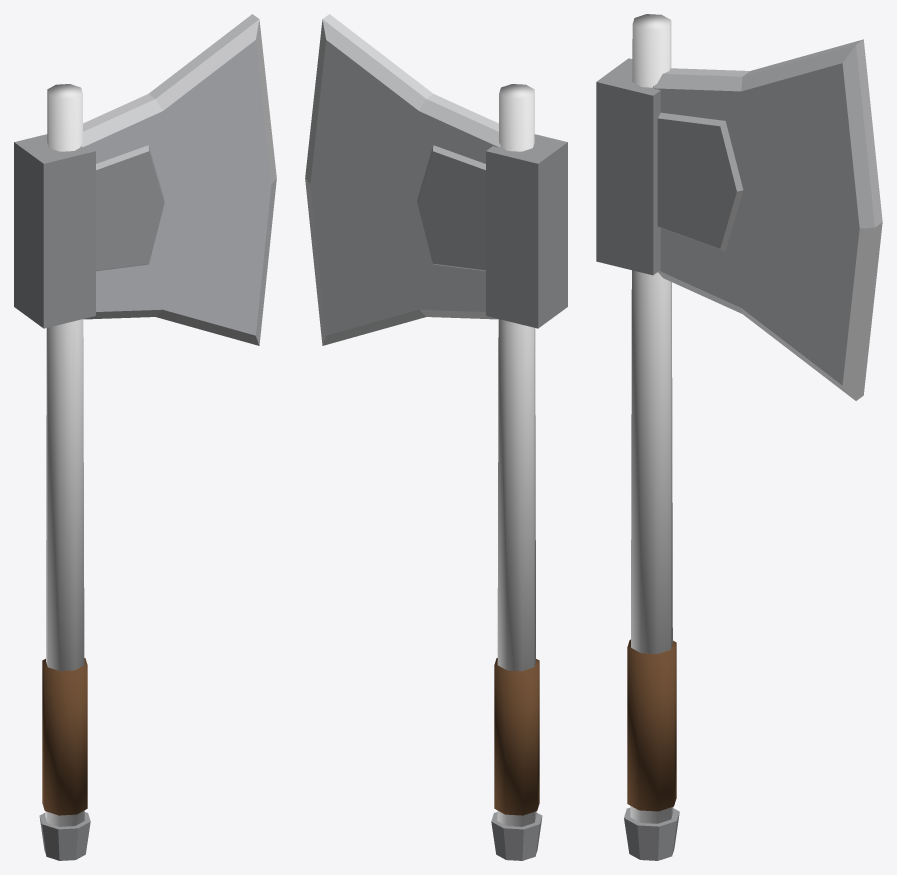
The model's file is silver_axe.glb.
The picture shows the model from 3 angles, left to right: view 1: azimuth 30°, elevation 25°; view 2: azimuth 150°, elevation 25°; view 3: azimuth 330°, elevation 25°; orthographic projection. The views are drawn at different scales.
Parts seen in each view (by area): view 1: silver_axe_v0; view 2: silver_axe_v0; view 3: silver_axe_v0.
Part boxes in pixels (x1,y1,x2,y2): silver_axe_v0: (14,14,276,860); silver_axe_v0: (305,14,567,860); silver_axe_v0: (596,14,882,860).
Size of the model in its own units: 0.3042 by 0.9386 by 0.064.
